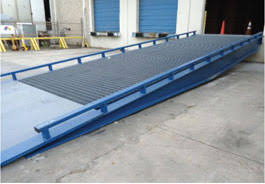Yard Ramp: (1, 30, 265, 167)
